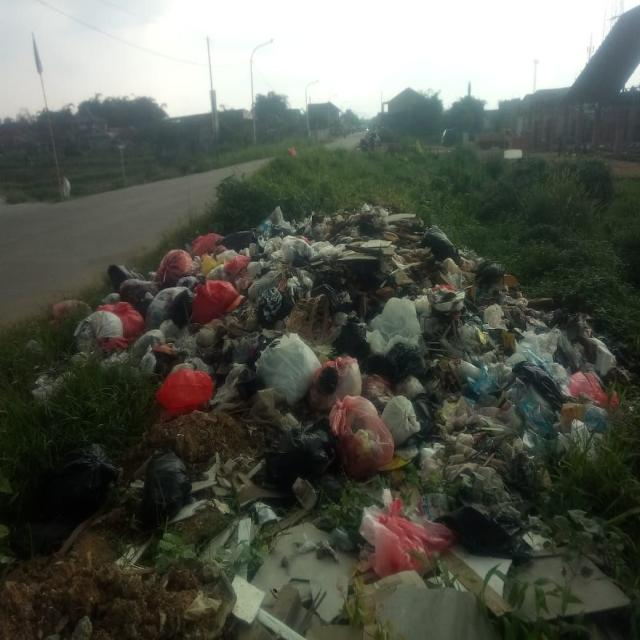garbage: (88, 201, 594, 608)
